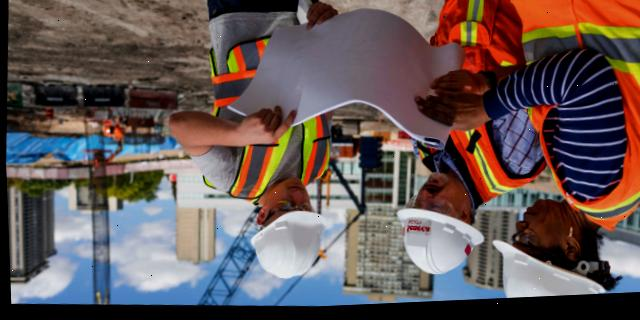helmet: (478, 232, 616, 304), (386, 207, 487, 281), (244, 205, 333, 287)
vest: (407, 0, 557, 191), (518, 0, 640, 224), (197, 34, 339, 210)
